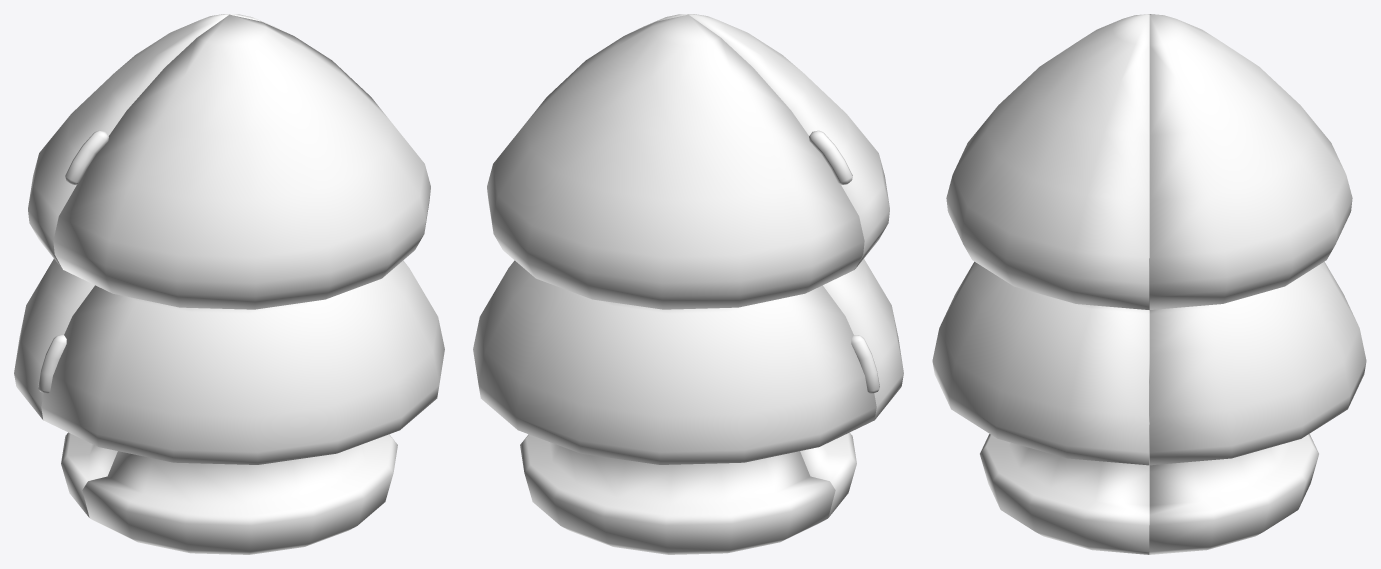
The model's file is 新雪糕工厂-制作雪糕-雪糕模具04.FBX.
The picture shows the model from 3 angles, left to right: view 1: azimuth 30°, elevation 25°; view 2: azimuth 150°, elevation 25°; view 3: azimuth 270°, elevation 25°; orthographic projection.
Parts seen in each view (by area): view 1: 新雪糕工厂-制作雪糕-雪糕模具04; view 2: 新雪糕工厂-制作雪糕-雪糕模具04; view 3: 新雪糕工厂-制作雪糕-雪糕模具04.
Part boxes in pixels (x1,y1,x2,y2): 新雪糕工厂-制作雪糕-雪糕模具04: [14, 14, 444, 554]; 新雪糕工厂-制作雪糕-雪糕模具04: [473, 14, 903, 554]; 新雪糕工厂-制作雪糕-雪糕模具04: [932, 14, 1366, 554].
Bounding box in the file's own units: 13.5 × 16.23 × 13.39.
Materials: 1 (1 with a texture image).
